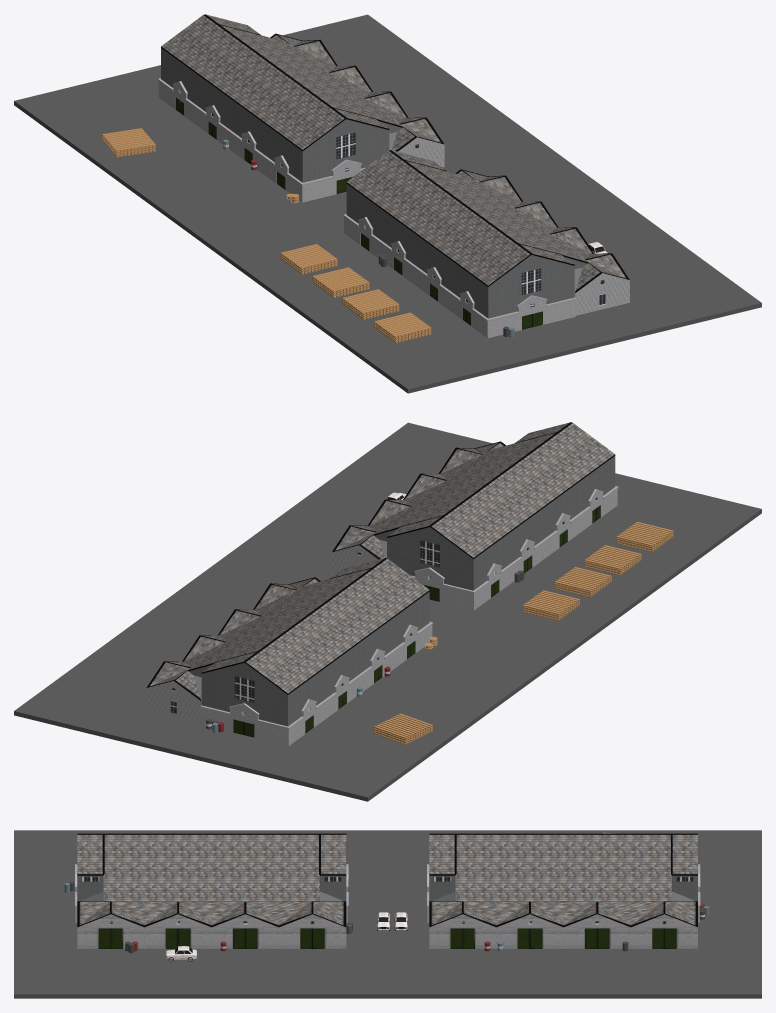
Rendered from pakgauzi.glb.
3 renders of one model, top to bottom at view 1: azimuth 30°, elevation 25°; view 2: azimuth 150°, elevation 25°; view 3: azimuth 270°, elevation 25°, orthographic. The views are drawn at different scales.
Visible parts, largest first — view 1: Plane, Cube, Cube.002, Cube.001, Cube.003, Cube.023, Cube.029, Cube.011, Cube.017, Cube.035; view 2: Plane, Cube.002, Cube, Cube.003, Cube.001, Cube.011, Cube.023, Cube.017, Cube.029, Cube.035; view 3: Plane, Cube, Cube.002, Cube.003, Cube.001, Plane.002.
Boxes of the visible parts, x1,y1,x2,y2 form: Plane: (14, 14, 761, 393); Cube: (343, 150, 588, 338); Cube.002: (157, 14, 402, 202); Cube.001: (455, 169, 629, 315); Cube.003: (270, 33, 444, 167); Cube.023: (312, 267, 369, 292); Cube.029: (280, 244, 337, 268); Cube.011: (374, 312, 431, 337); Cube.017: (342, 289, 399, 313); Cube.035: (102, 128, 155, 151); Plane: (14, 422, 761, 801); Cube.002: (187, 558, 433, 746); Cube: (373, 422, 618, 610); Cube.003: (146, 577, 320, 723); Cube.001: (331, 441, 505, 575); Cube.011: (616, 521, 673, 546); Cube.023: (554, 567, 611, 591); Cube.017: (584, 545, 641, 569); Cube.029: (523, 590, 579, 615); Cube.035: (374, 713, 432, 739); Plane: (14, 830, 761, 998); Cube: (75, 833, 348, 922); Cube.002: (427, 833, 700, 922); Cube.003: (429, 891, 697, 948); Cube.001: (77, 891, 346, 948); Plane.002: (166, 946, 196, 961).
Size of the model in its own units: 16.09 by 3.34 by 31.02.
Materials: 15 (5 with a texture image).
